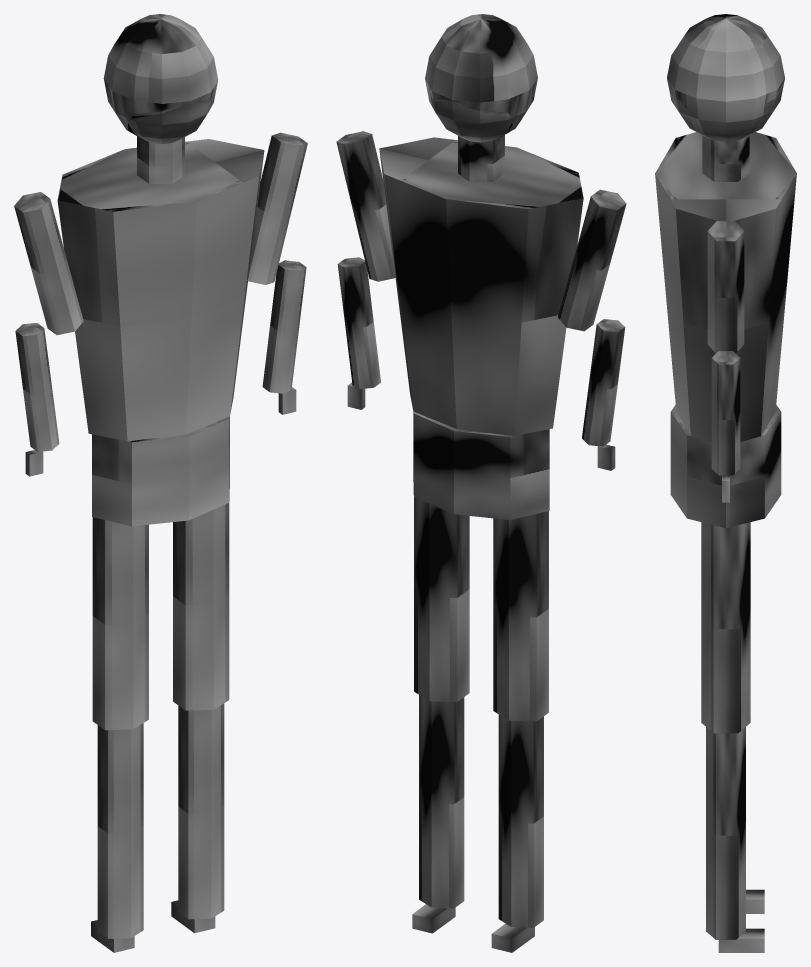
The model's file is zombie_runner.glb.
3 renders of one model, left to right at view 1: azimuth 30°, elevation 25°; view 2: azimuth 150°, elevation 25°; view 3: azimuth 270°, elevation 25°, orthographic.
Visible parts, largest first — view 1: zombie_runner; view 2: zombie_runner; view 3: zombie_runner.
Part boxes in pixels (x1,y1,x2,y2): zombie_runner: [14, 14, 307, 952]; zombie_runner: [336, 14, 626, 952]; zombie_runner: [655, 14, 796, 952].
Bounding box in the file's own units: 0.5446 × 1.68 × 0.2376.
Materials: 1 (1 with a texture image).
